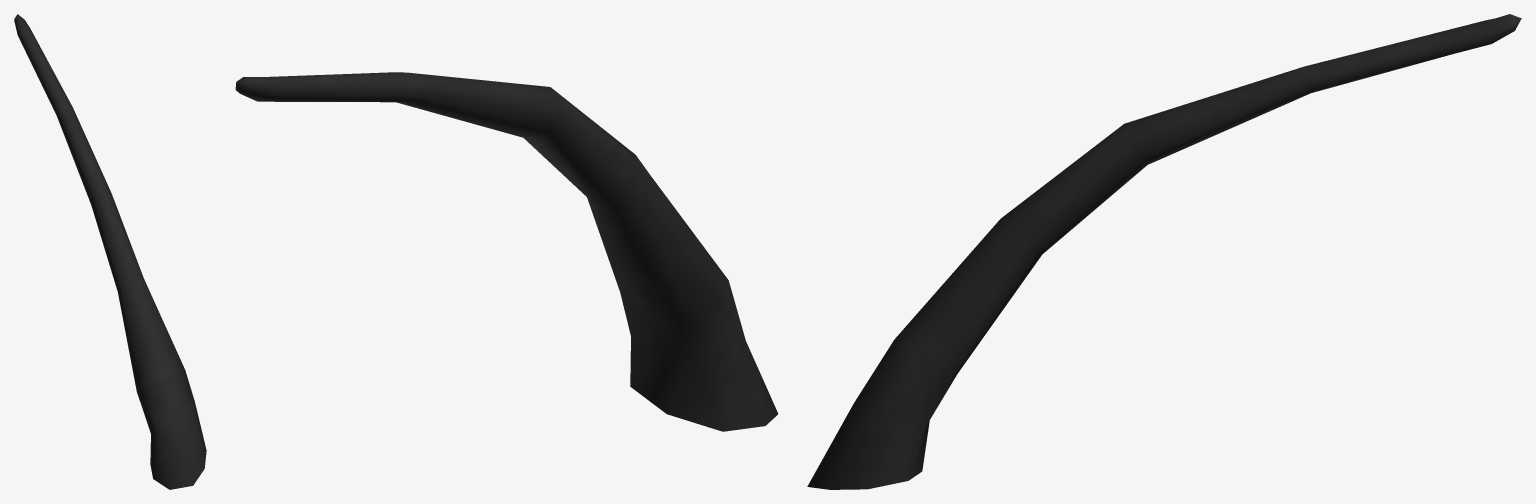
The model's file is Kerberos_feeler_prob.fbx.
3 renders of one model, left to right at view 1: azimuth 30°, elevation 25°; view 2: azimuth 150°, elevation 25°; view 3: azimuth 270°, elevation 25°, orthographic. The views are drawn at different scales.
Parts seen in each view (by area): view 1: Object015; view 2: Object015; view 3: Object015.
Boxes of the visible parts, left/top/right/bottom form: Object015: left=14, top=14, right=206, bottom=489; Object015: left=235, top=72, right=778, bottom=431; Object015: left=807, top=14, right=1521, bottom=489.
Size of the model in its own units: 7.35 by 31.59 by 40.31.
